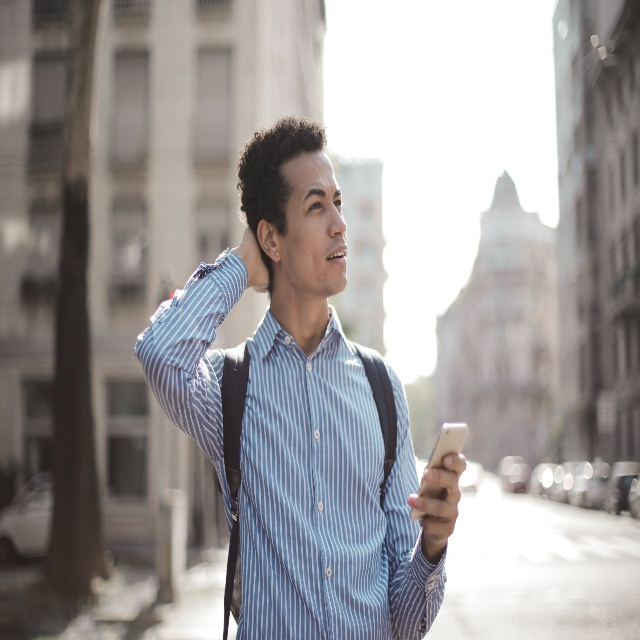Sin_guantes: (408, 452, 467, 545), (243, 224, 270, 293)
